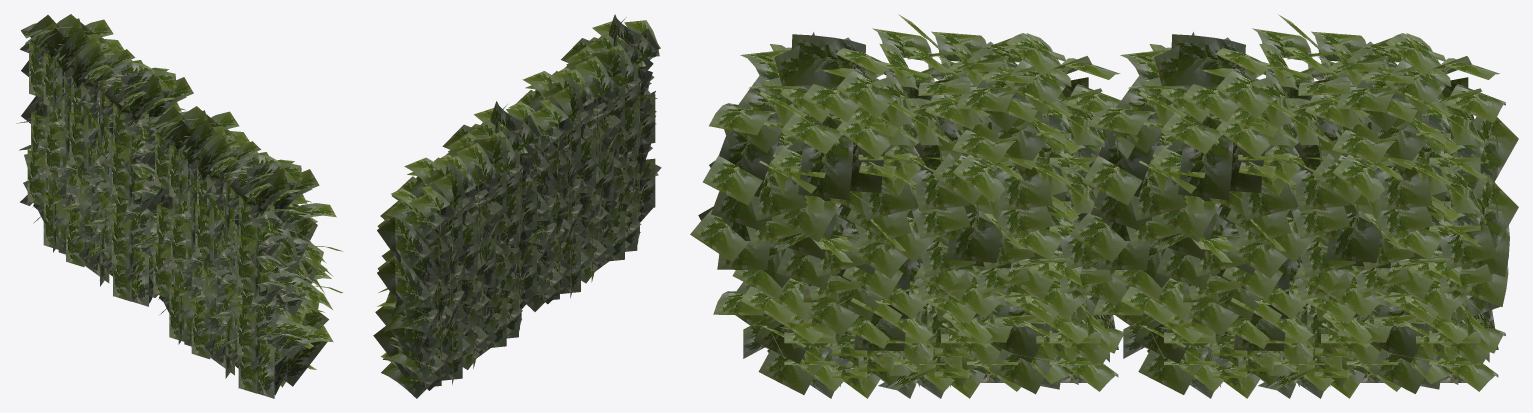
File: sm10_100_fenceplant.fbx
3 views of the same model, side by side, from view 1: azimuth 30°, elevation 25°; view 2: azimuth 150°, elevation 25°; view 3: azimuth 270°, elevation 25° (orthographic). The views are drawn at different scales.
Parts seen in each view (by area): view 1: 0089_sm10014BoxWood01A00ms_1_Group_0_Sub_1__sm10_014_Bo_4682; view 2: 0089_sm10014BoxWood01A00ms_1_Group_0_Sub_1__sm10_014_Bo_4682; view 3: 0089_sm10014BoxWood01A00ms_1_Group_0_Sub_1__sm10_014_Bo_4682.
Boxes of the visible parts, x1,y1,x2,y2 form: 0089_sm10014BoxWood01A00ms_1_Group_0_Sub_1__sm10_014_Bo_4682: (16,14,343,398); 0089_sm10014BoxWood01A00ms_1_Group_0_Sub_1__sm10_014_Bo_4682: (373,14,661,398); 0089_sm10014BoxWood01A00ms_1_Group_0_Sub_1__sm10_014_Bo_4682: (690,14,1518,398).
Bounding box in the file's own units: 0.8053 × 2.04 × 4.21.
